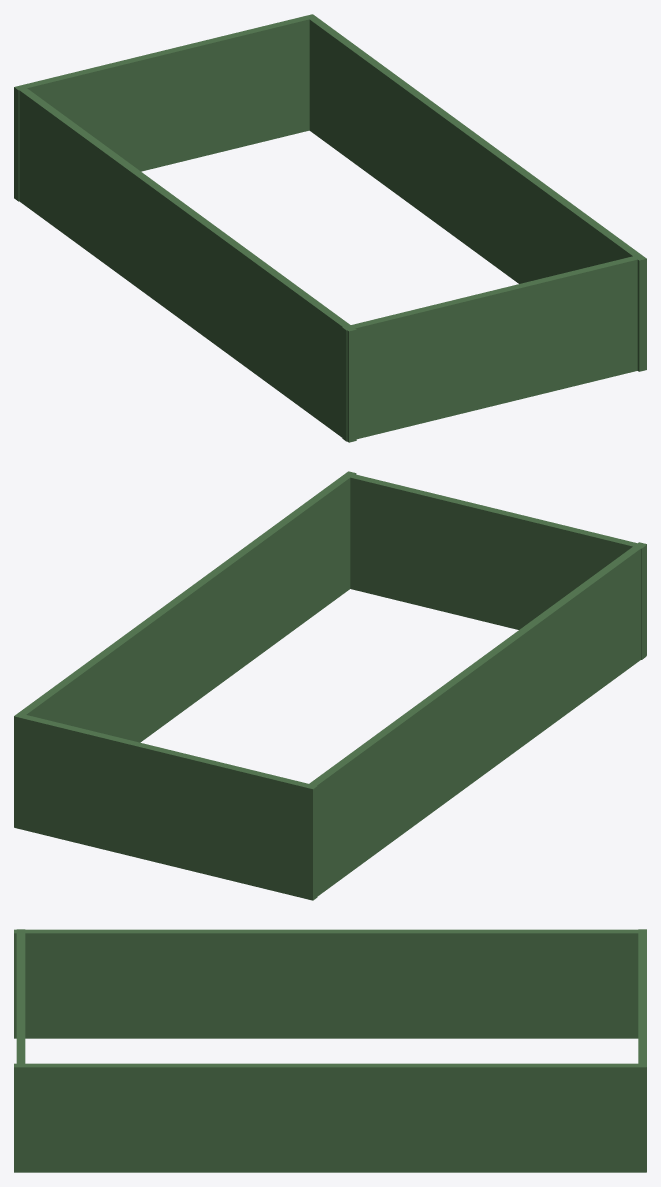
The model's file is tipper-body.dae.
The picture shows the model from 3 angles, top to bottom: view 1: azimuth 30°, elevation 25°; view 2: azimuth 150°, elevation 25°; view 3: azimuth 270°, elevation 25°; orthographic projection. The views are drawn at different scales.
Parts seen in each view (by area): view 1: Cube_460, Cube_459, Cube_462, Cube_461; view 2: Cube_460, Cube_461, Cube_459, Cube_462; view 3: Cube_459, Cube_460, Cube_462, Cube_461.
Part boxes in pixels (bbox=[...]): Cube_460: bbox=[15, 85, 356, 442]; Cube_459: bbox=[306, 14, 646, 371]; Cube_462: bbox=[342, 254, 644, 441]; Cube_461: bbox=[14, 14, 315, 201]; Cube_460: bbox=[305, 542, 646, 895]; Cube_461: bbox=[14, 713, 317, 900]; Cube_459: bbox=[14, 471, 356, 827]; Cube_462: bbox=[343, 473, 646, 659]; Cube_459: bbox=[14, 1063, 646, 1172]; Cube_460: bbox=[14, 929, 646, 1038]; Cube_462: bbox=[16, 929, 25, 1063]; Cube_461: bbox=[638, 929, 646, 1171].
Bounding box in the file's own units: 1.53 × 2.96 × 0.543.
